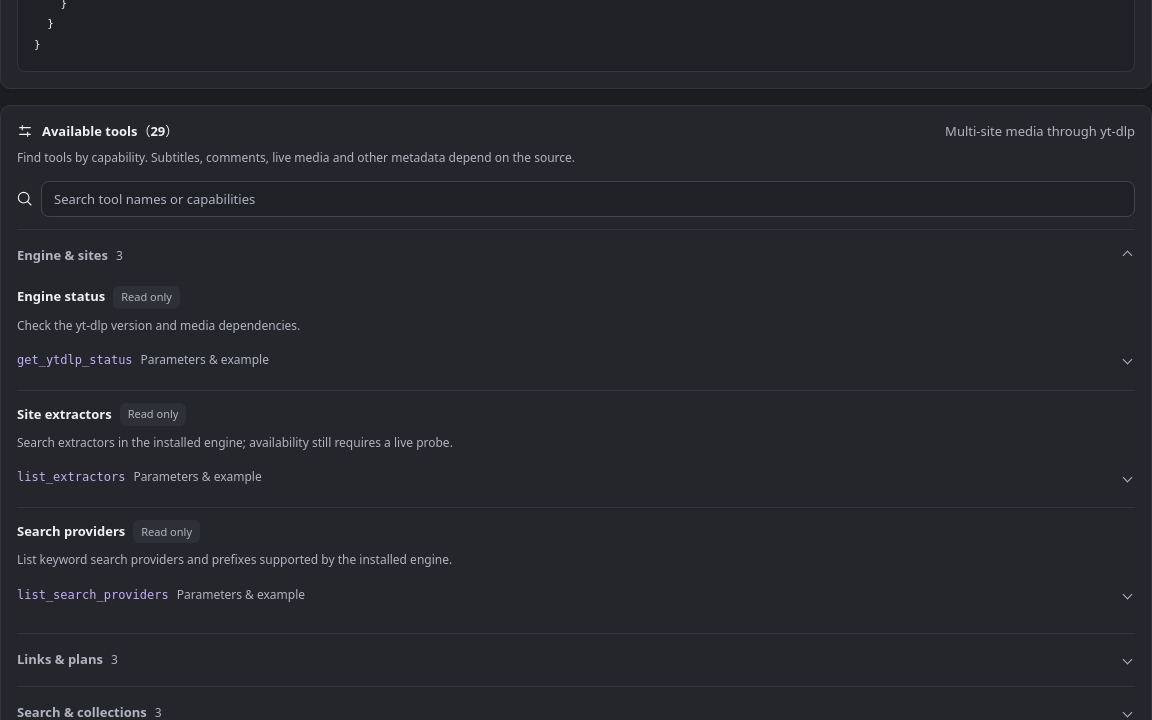
searches names and capabilities across closed groups and shows site and write limits
(page scrolled)
Expected: the text "Engine status" is shown, [17,287,105,307]
Type "subtitles" into the search field labelled "Search tool names or capabilities" at (588, 199), box [41,181,1135,217]
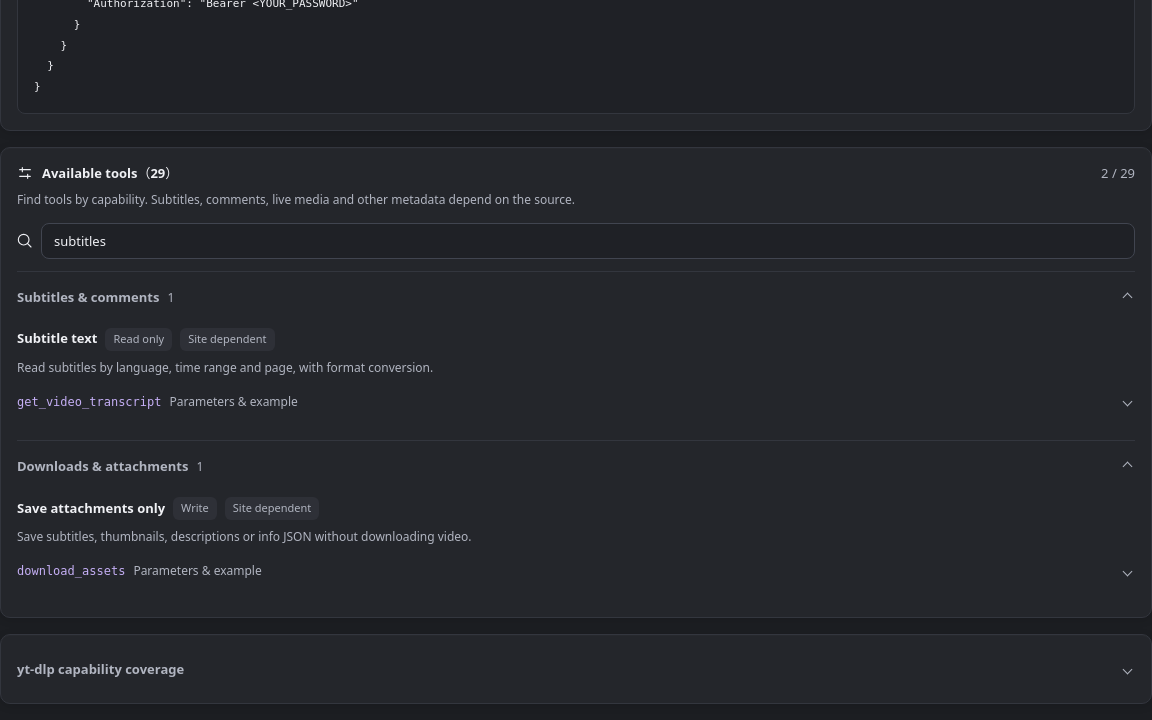
Result: the text "Engine status" is gone
Result: the text "Site dependent" next to "Read only" is shown at [188,331,267,346]
Replace the text in the search field named "Search tool names or capabilities" with "download_assets" at (588, 241), box [41,223,1135,259]
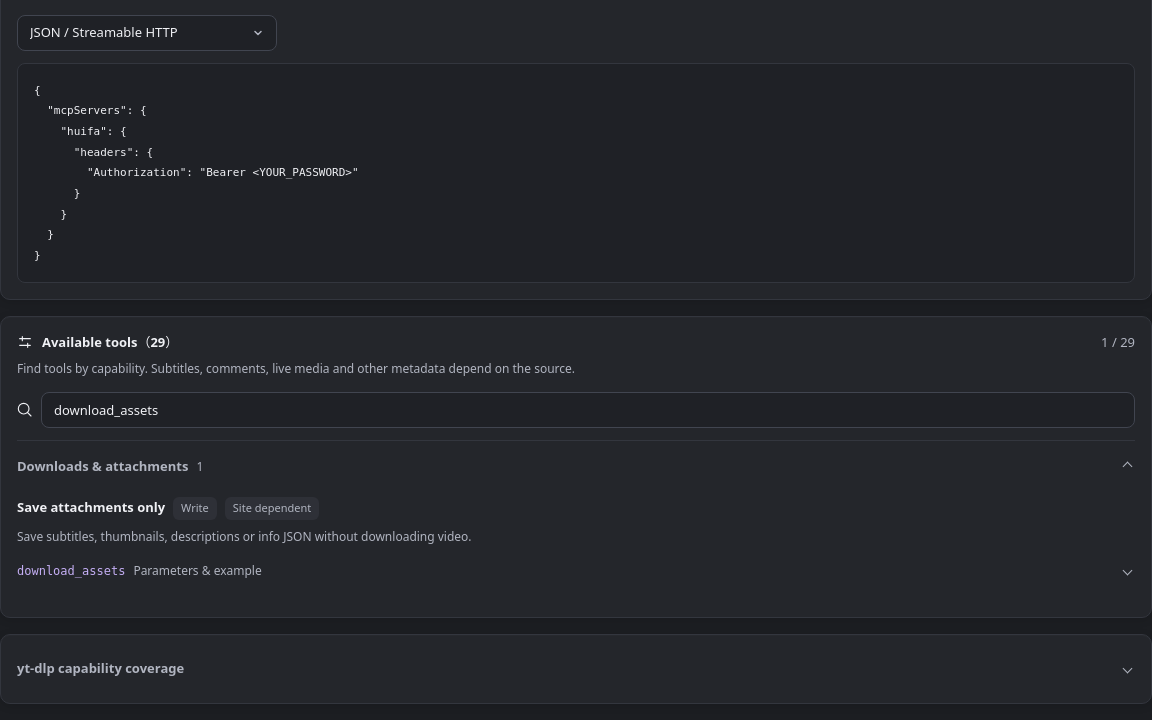
Result: the text "Write" is shown at [173,497,217,520]
Replace the text in the search field named "Search tool names or capabilities" with "missing-tool-123" at (588, 410), box [41,392,1135,428]
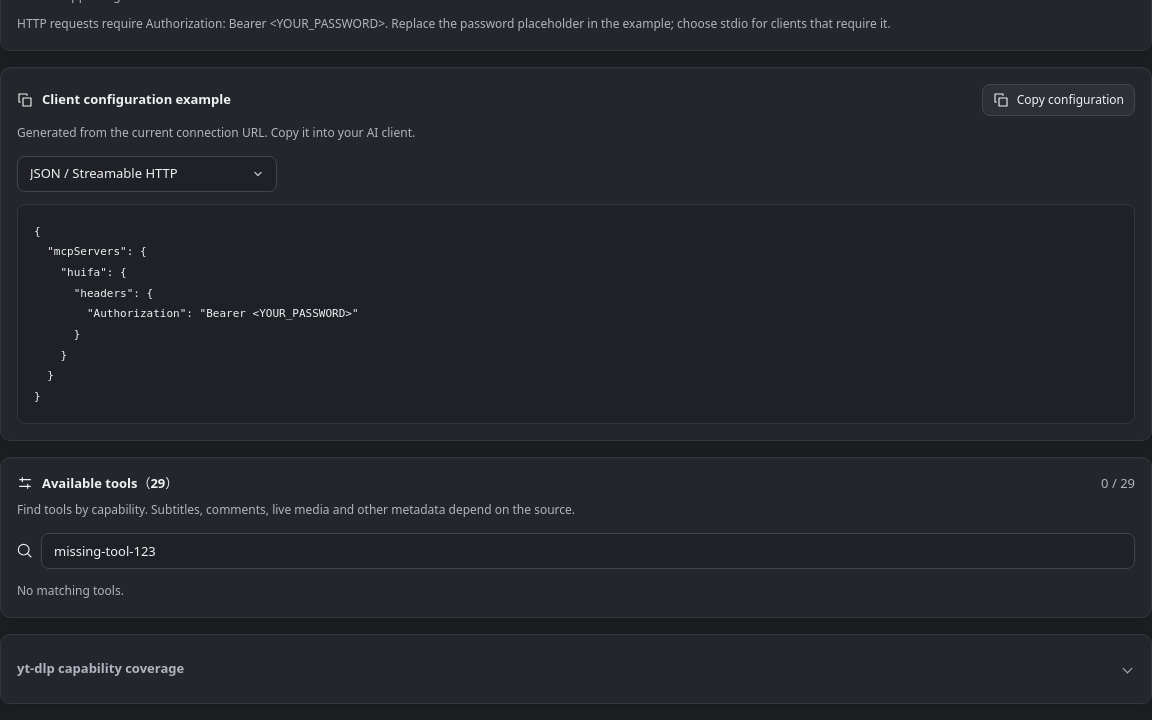
Clear the search field named "Search tool names or capabilities" at (588, 551), box [41,533,1135,569]
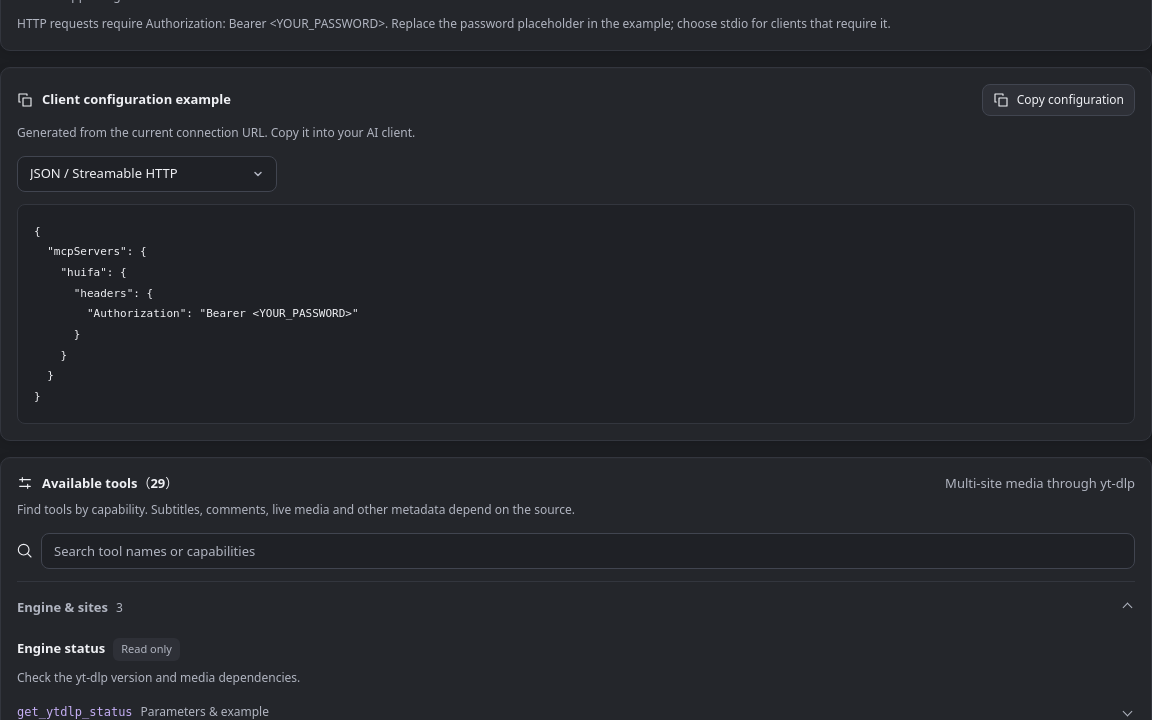
Result: the text "Engine status" is shown at [17,639,105,659]
